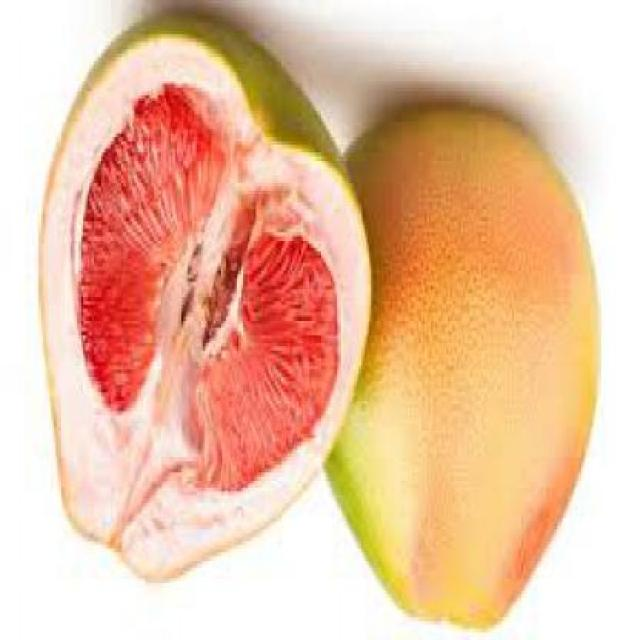BIODEGRADABLE: (41, 14, 371, 579), (328, 106, 596, 624)
